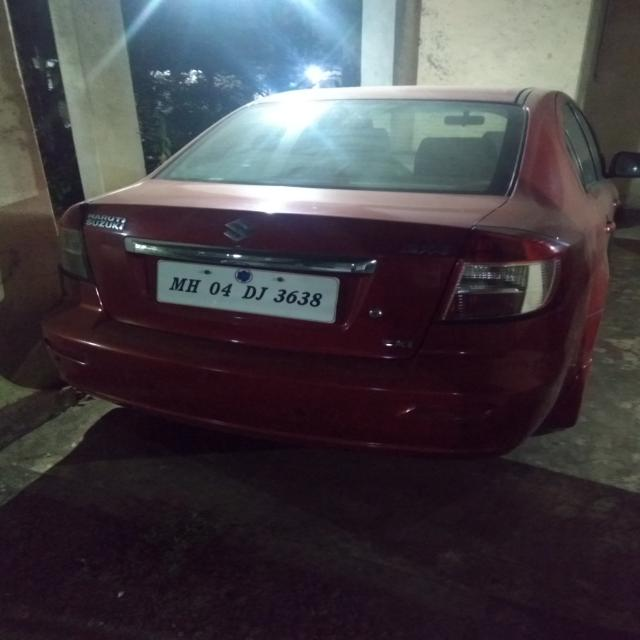Number-Plate: (160, 262, 337, 318)
